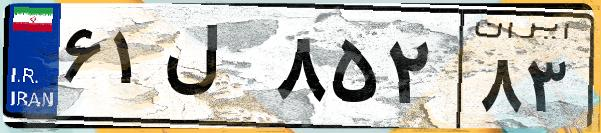1: (110, 28, 158, 98)
2: (385, 28, 445, 110)
3: (525, 38, 570, 115)
5: (330, 28, 385, 110)
6: (57, 26, 110, 100)
8: (270, 28, 330, 110), (475, 38, 525, 113)
ل: (158, 20, 270, 120)
